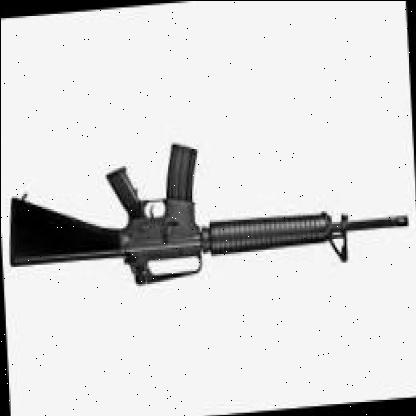rifle: (0, 124, 411, 298)
